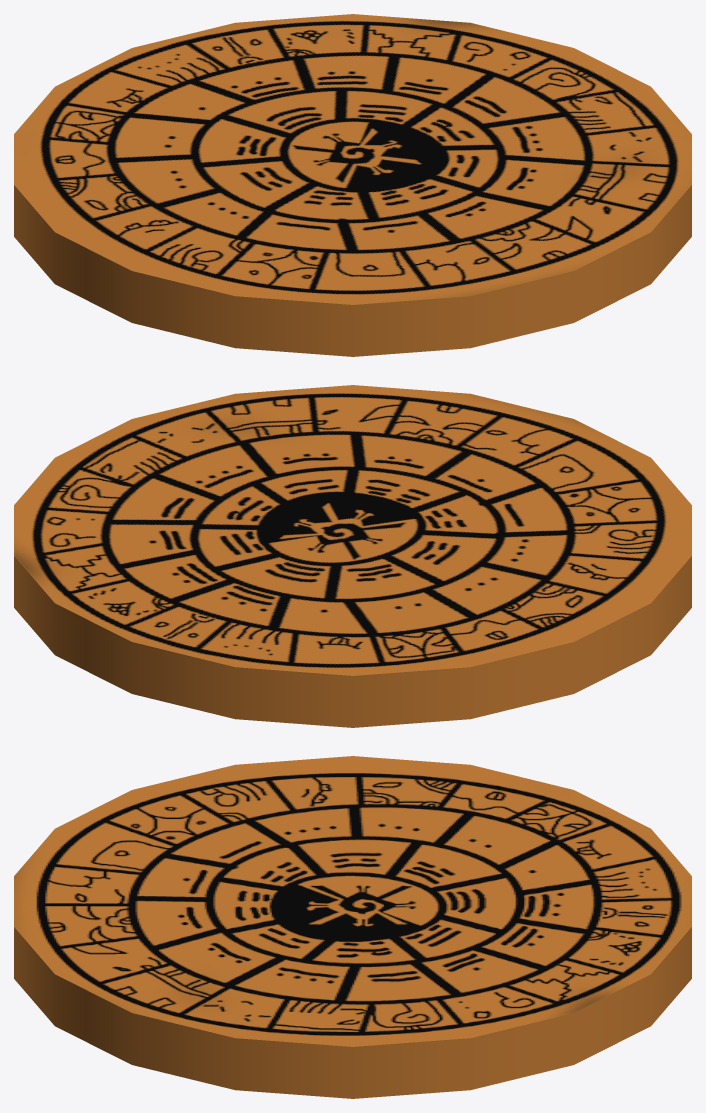
The model's file is tablet.FBX.
3 views of the same model, one above another, from view 1: azimuth 30°, elevation 25°; view 2: azimuth 150°, elevation 25°; view 3: azimuth 270°, elevation 25° (orthographic).
Visible parts, largest first — view 1: Cylinder001; view 2: Cylinder001; view 3: Cylinder001.
Part boxes in pixels (x1,y1,x2,y2): Cylinder001: (14,14,691,356); Cylinder001: (14,385,691,727); Cylinder001: (14,756,691,1098).
Size of the model in its own units: 70.87 by 5.91 by 69.79.
1 material, 1 textured.
